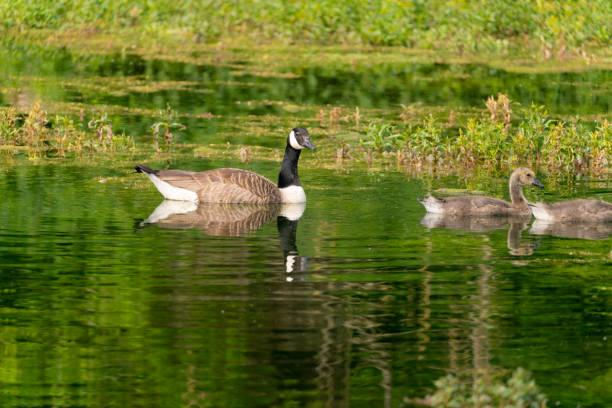Canadian-Goose: (133, 124, 314, 211), (417, 167, 542, 225), (530, 194, 612, 225)
